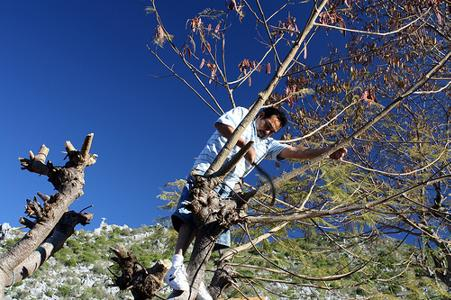person: (159, 103, 350, 293)
